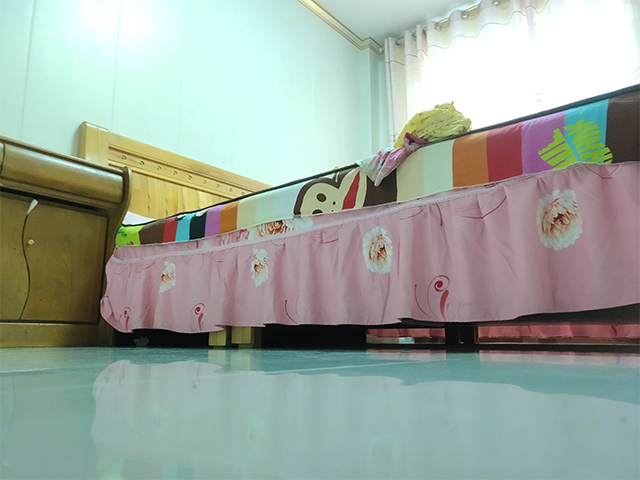bed: (73, 82, 640, 354)
cabinet: (1, 134, 134, 354)
